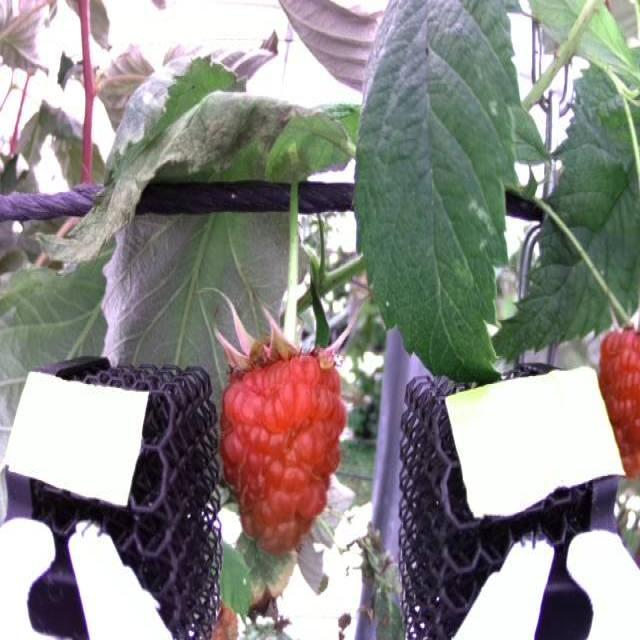Riped berries: (212, 312, 348, 556), (594, 324, 640, 472)
